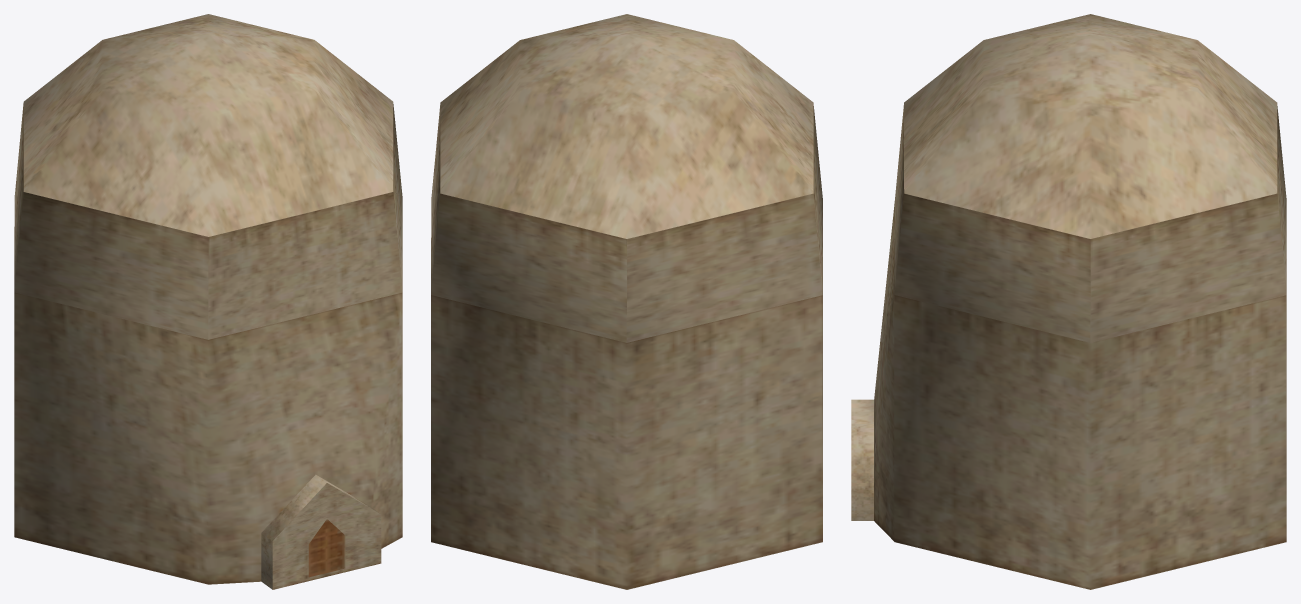
File: thm_tato_imprv_building_s08_l3.fbx
3 views of the same model, side by side, from view 1: azimuth 30°, elevation 25°; view 2: azimuth 150°, elevation 25°; view 3: azimuth 270°, elevation 25° (orthographic).
Visible parts, largest first — view 1: mesh_node; view 2: mesh_node; view 3: mesh_node.
Part boxes in pixels (x1=…): mesh_node: x1=14, y1=14, x2=402, y2=589; mesh_node: x1=431, y1=14, x2=822, y2=589; mesh_node: x1=851, y1=14, x2=1286, y2=589.
Size of the model in its own units: 23.13 by 25.85 by 22.26.
Materials: 1 (1 with a texture image).
